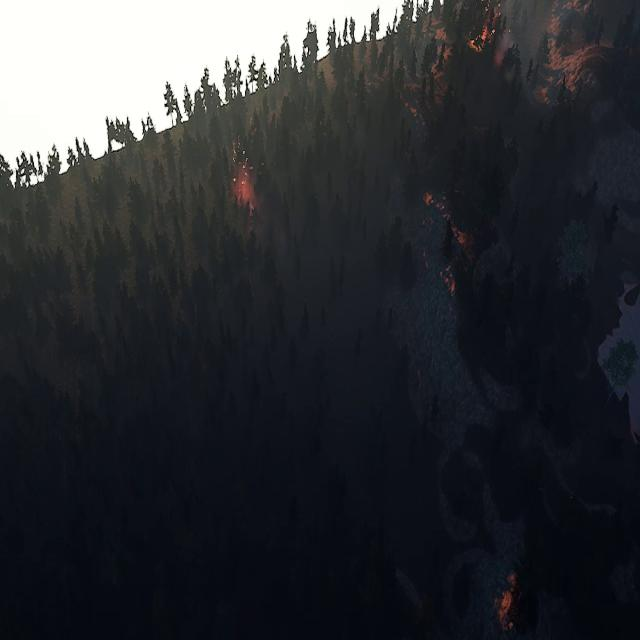fire: (232, 163, 257, 216)
